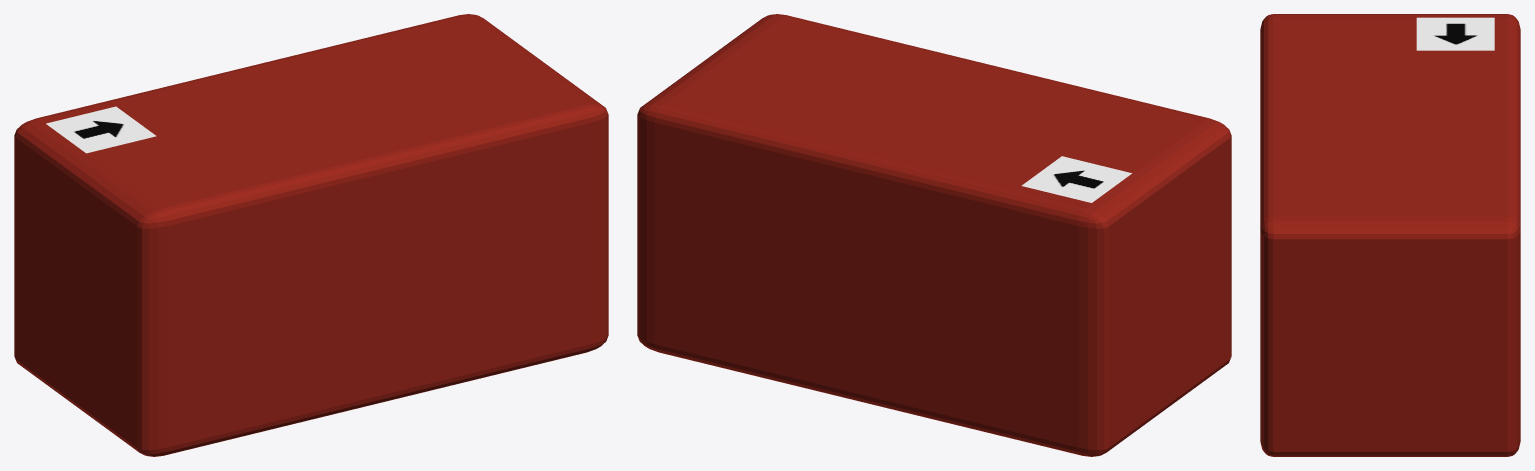
Rendered from Trans_Highlight.dae.
3 views of the same model, side by side, from view 1: azimuth 30°, elevation 25°; view 2: azimuth 150°, elevation 25°; view 3: azimuth 270°, elevation 25° (orthographic). The views are drawn at different scales.
Parts seen in each view (by area): view 1: Cube, Plane; view 2: Cube, Plane; view 3: Cube, Plane.
Part boxes in pixels (box(x1,y1,x2,y2)): Cube: box(14, 14, 608, 456); Plane: box(46, 106, 156, 153); Cube: box(637, 14, 1231, 456); Plane: box(1021, 156, 1131, 202); Cube: box(1260, 14, 1520, 456); Plane: box(1416, 17, 1494, 50).
Size of the model in its own units: 2 by 1 by 1.
2 materials, 1 textured.
